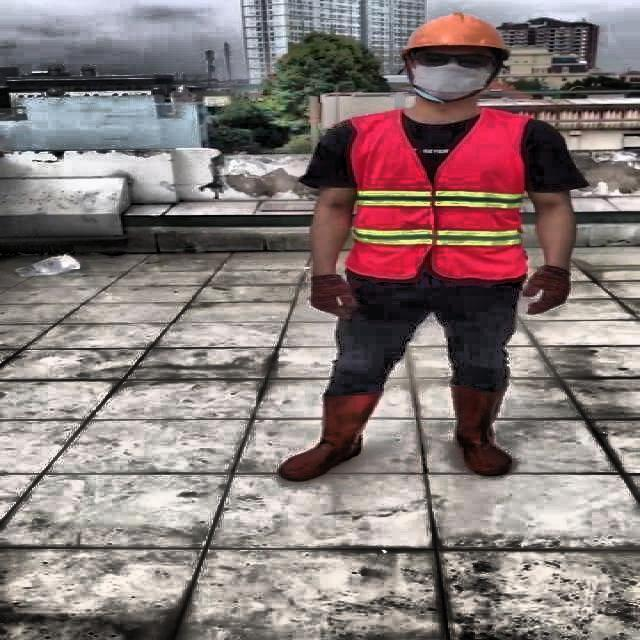safety_helmet: (395, 10, 514, 57)
safety_jacket: (343, 112, 525, 278)
